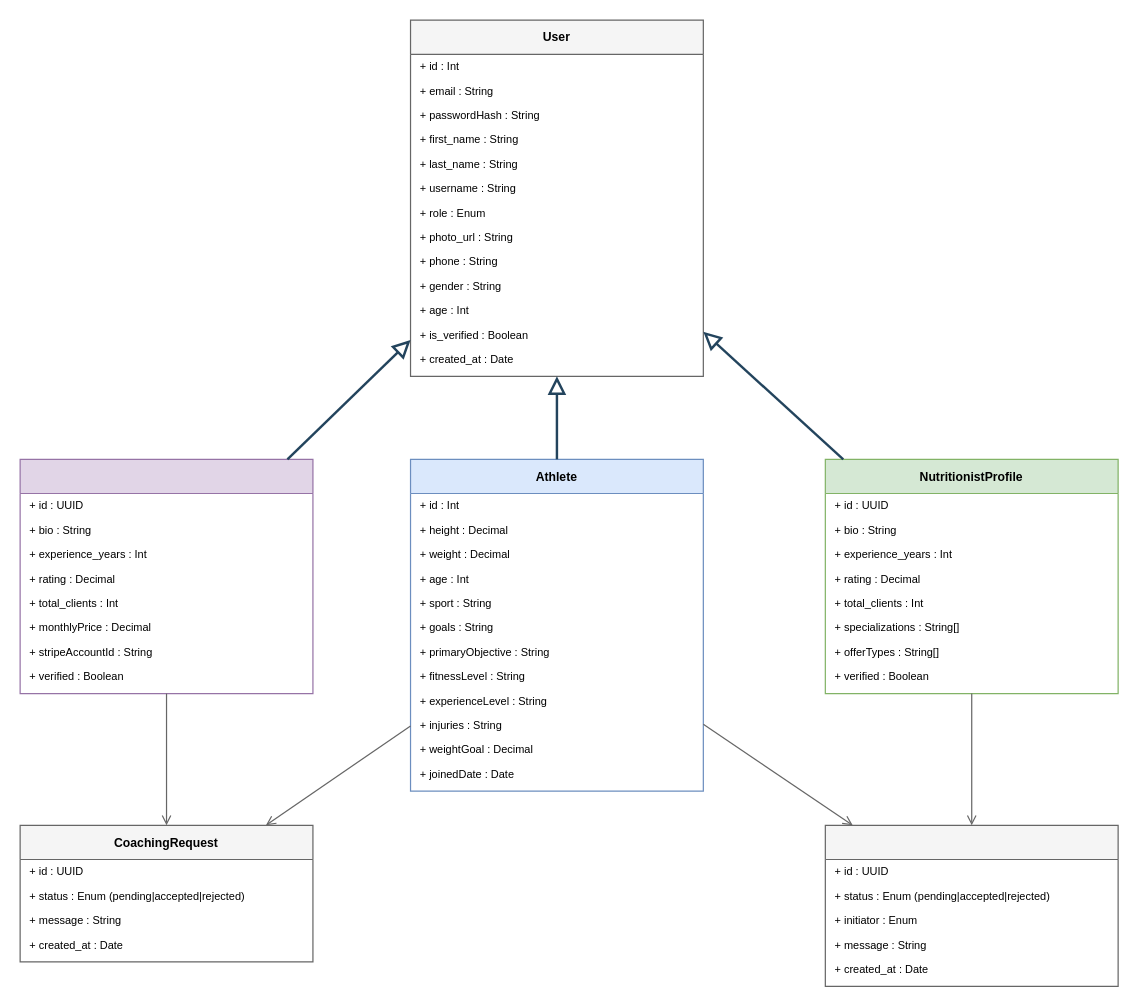
This 1138x1007 diagram has some shape labels left out. Each missing label, with the box of its shape:
CoachProfile: (19, 458, 313, 694)
NutritionConnection: (824, 824, 1118, 986)
